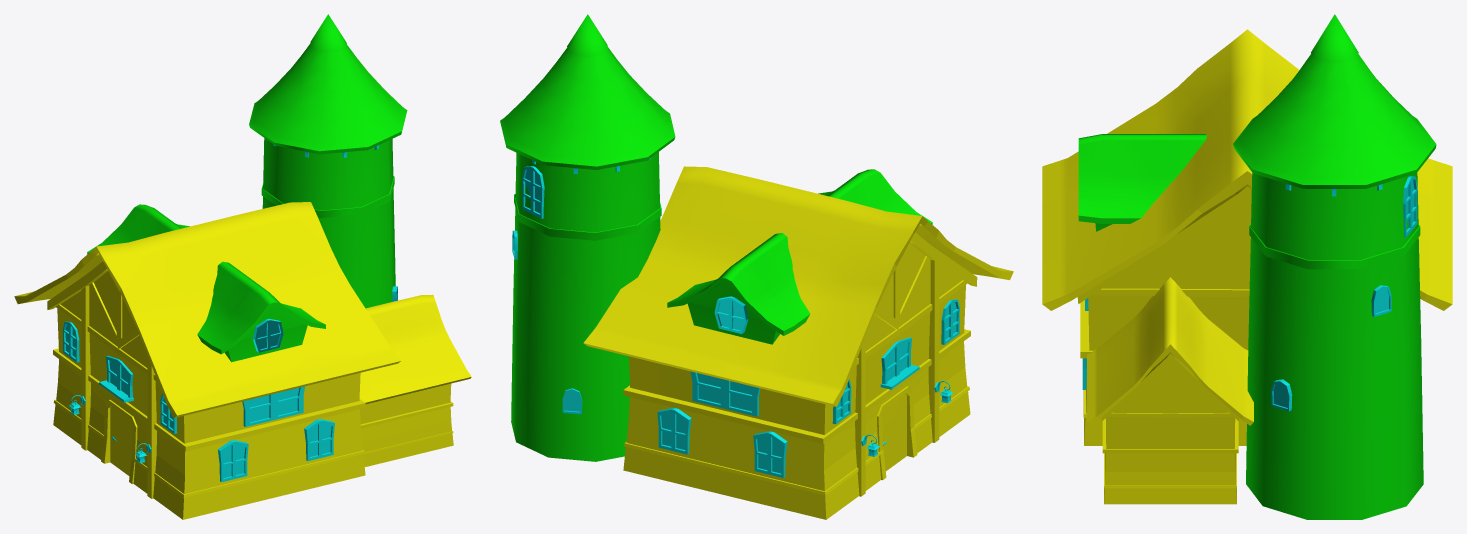
Rendered from house4.fbx.
3 renders of one model, left to right at view 1: azimuth 30°, elevation 25°; view 2: azimuth 150°, elevation 25°; view 3: azimuth 270°, elevation 25°, orthographic. The views are drawn at different scales.
Visible parts, largest first — view 1: house4, tou1, mado; view 2: house4, tou1, mado; view 3: tou1, house4, mado.
Boxes of the visible parts, x1,y1,x2,y2 form: house4: [14, 202, 471, 519]; tou1: [87, 14, 407, 362]; mado: [62, 143, 397, 482]; house4: [583, 166, 1013, 519]; tou1: [500, 14, 932, 461]; mado: [512, 158, 959, 477]; tou1: [1078, 14, 1436, 519]; house4: [1042, 29, 1452, 504]; mado: [1082, 176, 1417, 411].
Bounding box in the file's own units: 1075 × 1150 × 909.
